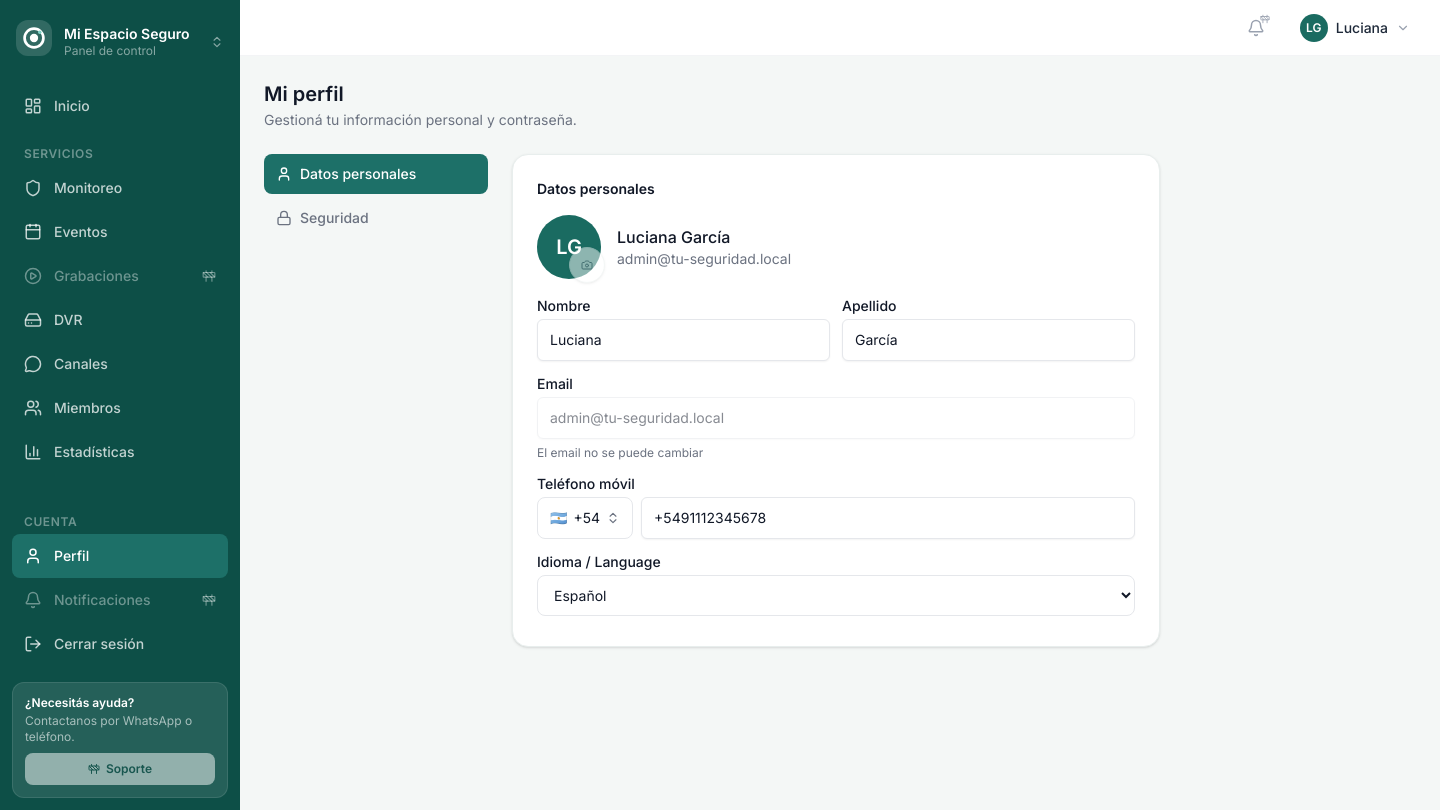
it: locale › switches the profile page from Spanish to English with the language select
Expected: the heading "Datos personales" is shown, 537,179 -> 655,199
Select "English" in the dropdown labelled "Idioma / Language". click: (836, 596)
box: 537,575 -> 1135,616
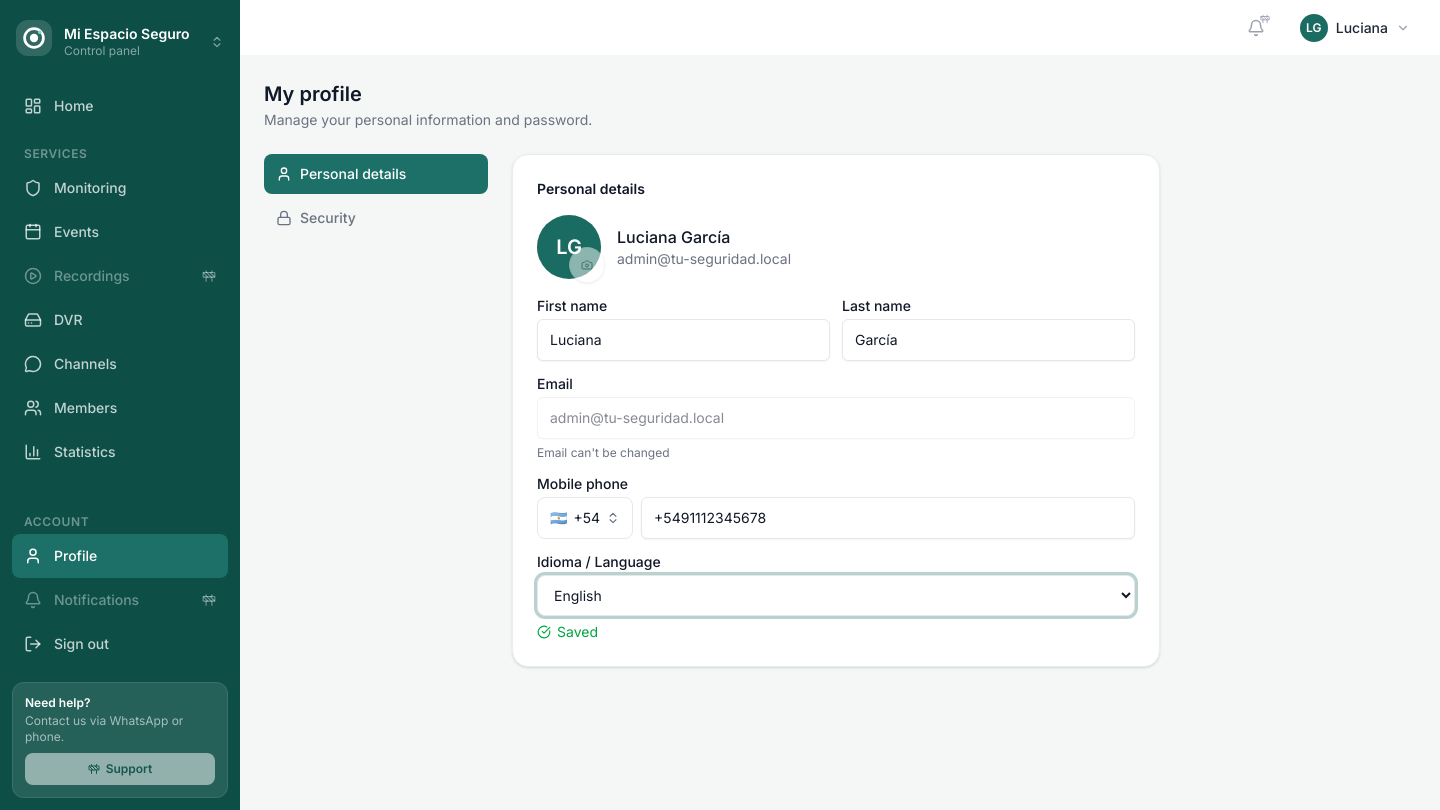
Expected: the heading "Personal details" is shown, 537,179 -> 645,199
